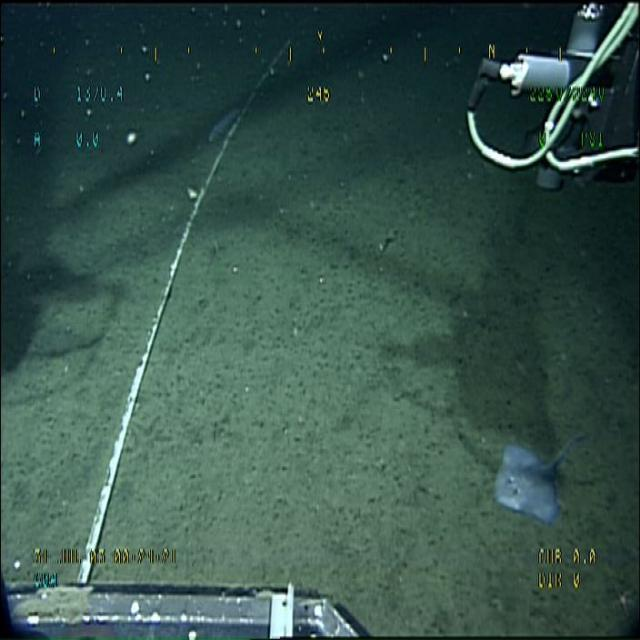Brittle Star: (610, 584, 636, 623)
Not Brittle Star: (487, 394, 588, 546)
